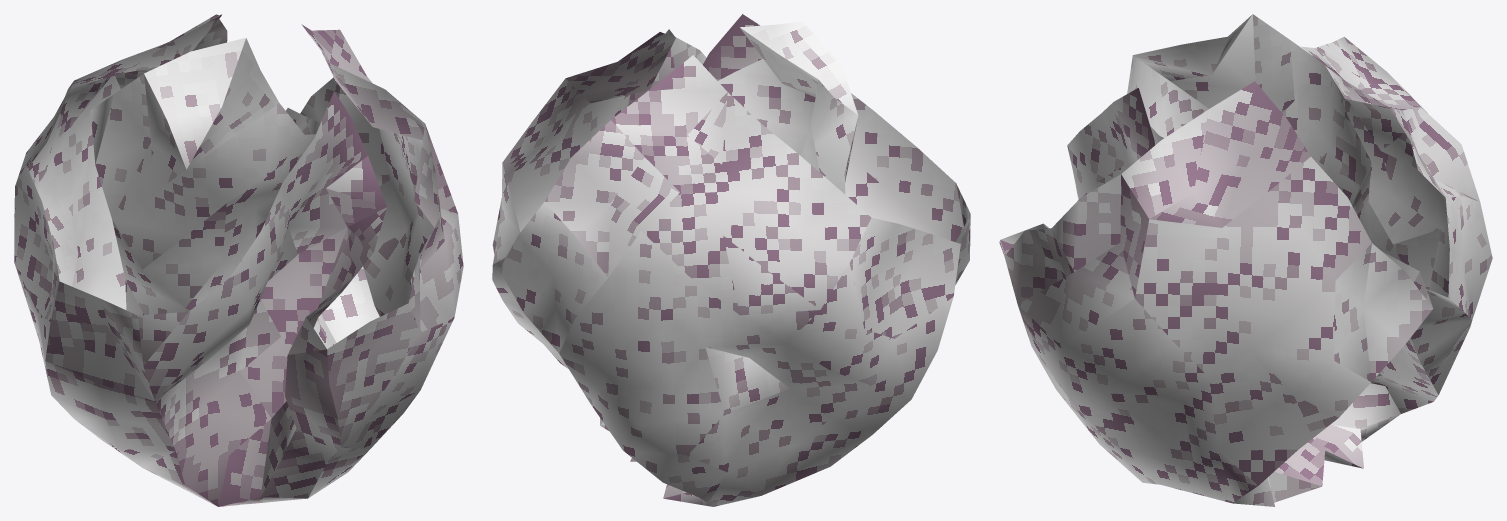
Rendered from paper_crumpled.glb.
3 renders of one model, left to right at view 1: azimuth 30°, elevation 25°; view 2: azimuth 150°, elevation 25°; view 3: azimuth 270°, elevation 25°, orthographic.
Visible parts, largest first — view 1: mesh; view 2: mesh; view 3: mesh.
Part boxes in pixels (<box>): mesh: <box>14,14,463,506</box>; mesh: <box>492,14,970,506</box>; mesh: <box>999,14,1492,506</box>.
Bounding box in the file's own units: 0.0554 × 0.06 × 0.0589.
Materials: 1 (1 with a texture image).
